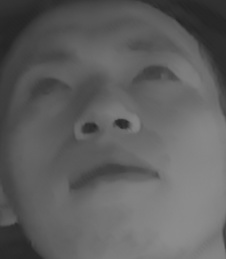eye: (126, 58, 185, 92), (25, 70, 73, 105)
mouth: (64, 147, 163, 198)
